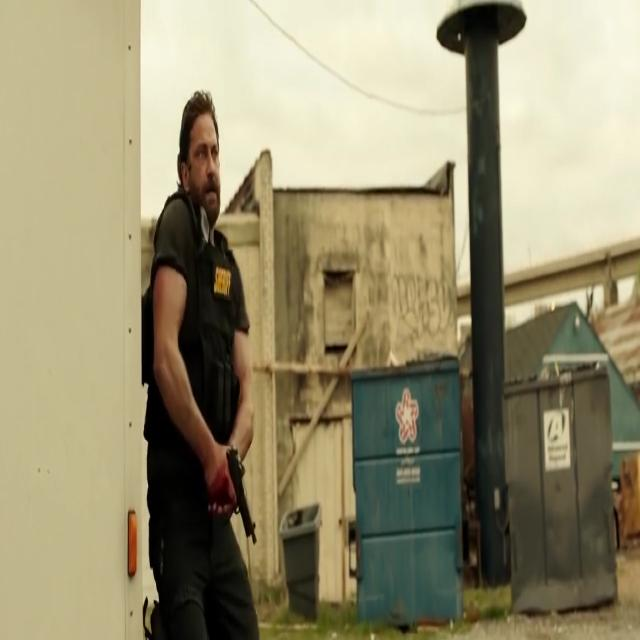Weapon: (220, 418, 277, 597)
